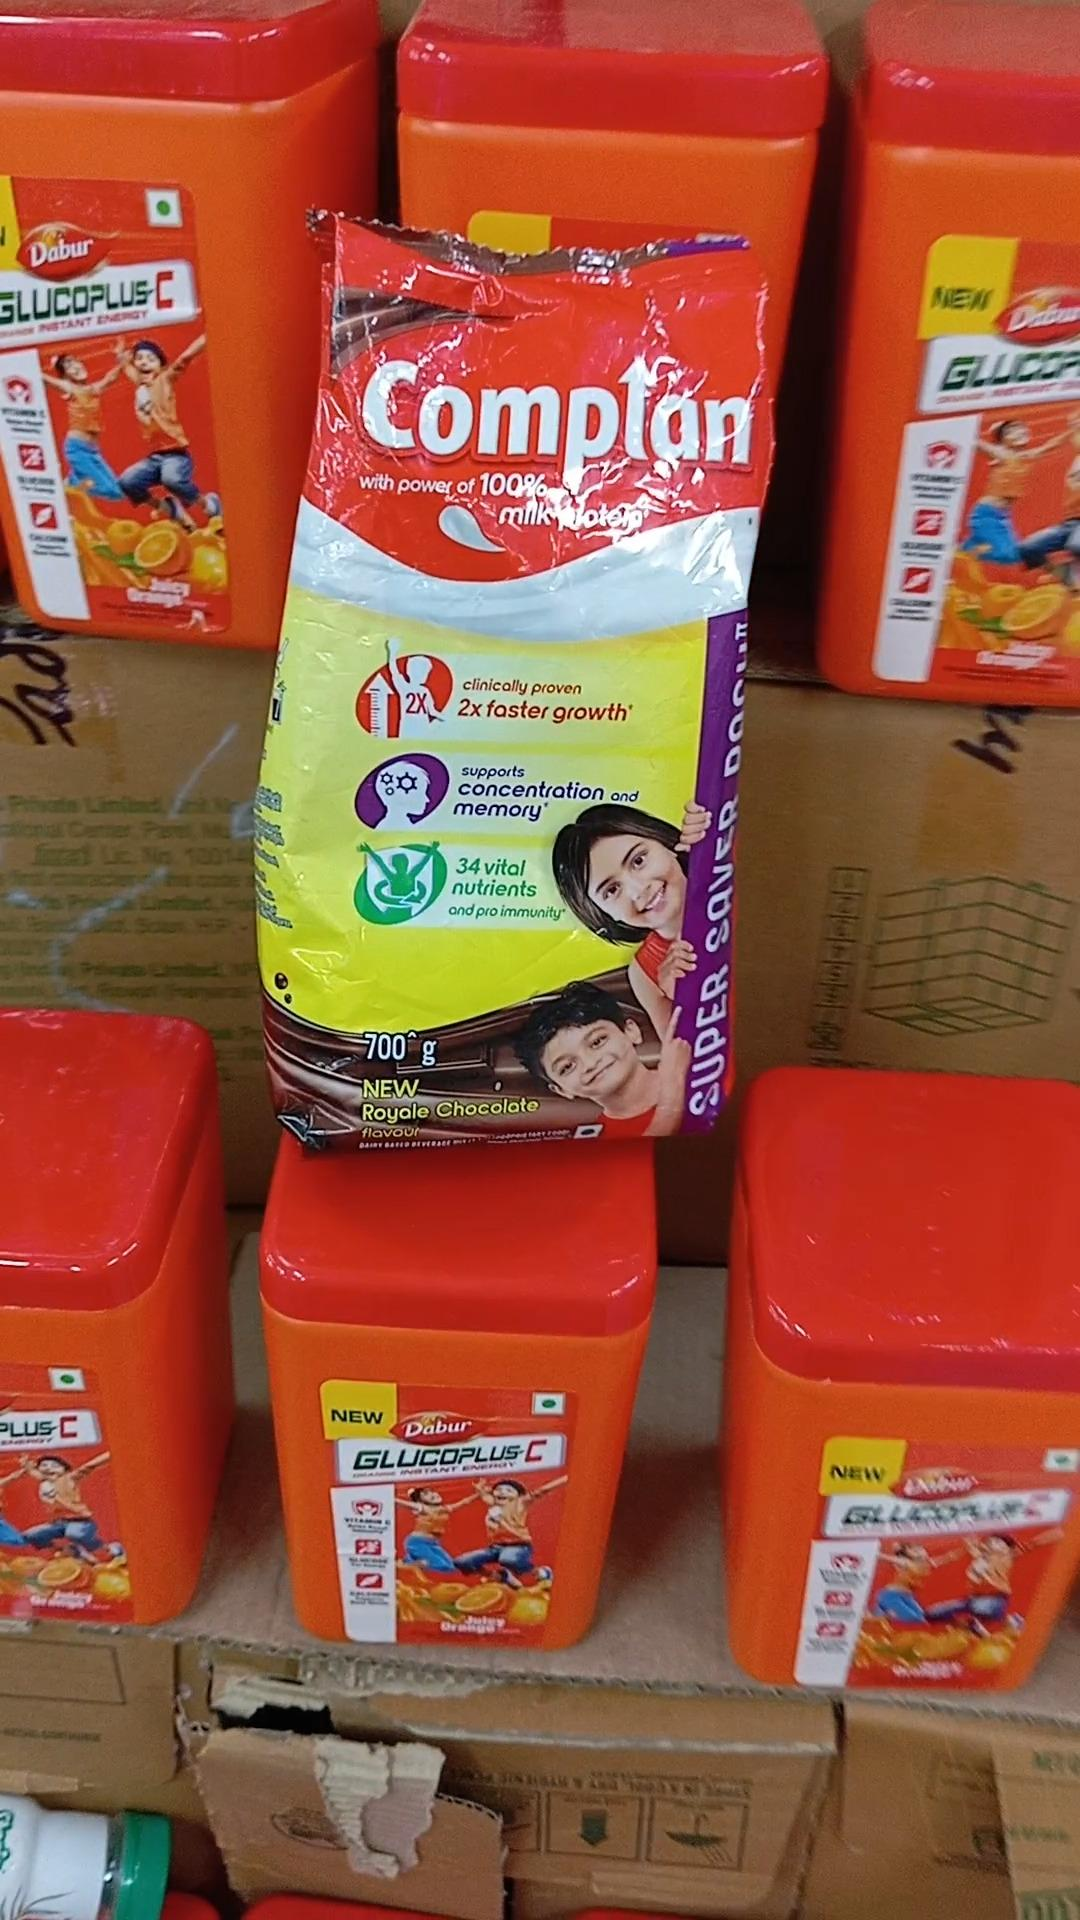COMPLAN_RC_POUCH_700_GMS_12: (285, 220, 737, 1163)
